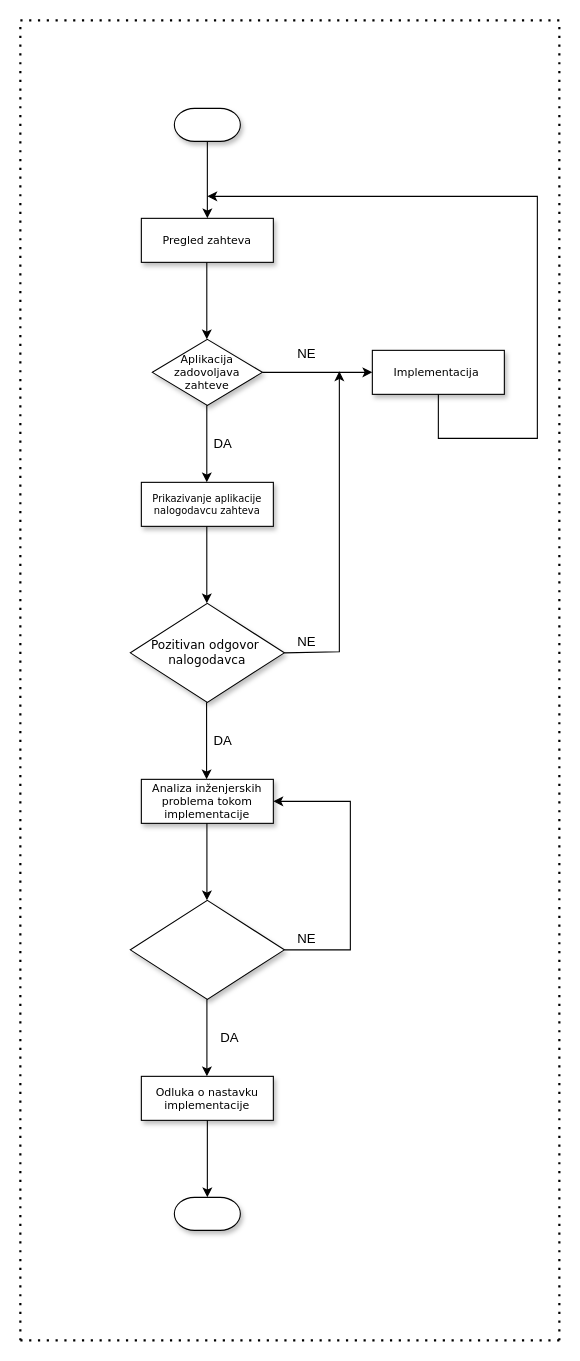
The diagram is 580 pixels wide and 1361 high, and some of its shapes have lost their labels. Each missing label, with the centre of its shape:
"Kraj" belongs at point 208,1215.
"Početak" belongs at point 208,126.
"Razumeni kritični problemi?" belongs at point 208,951.
